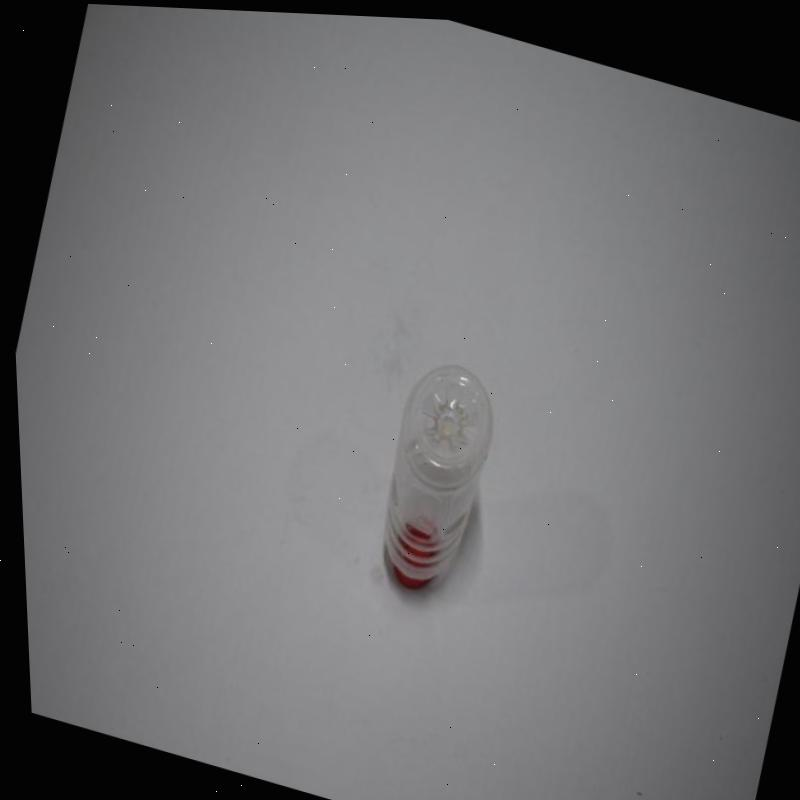botella: (354, 349, 510, 599)
